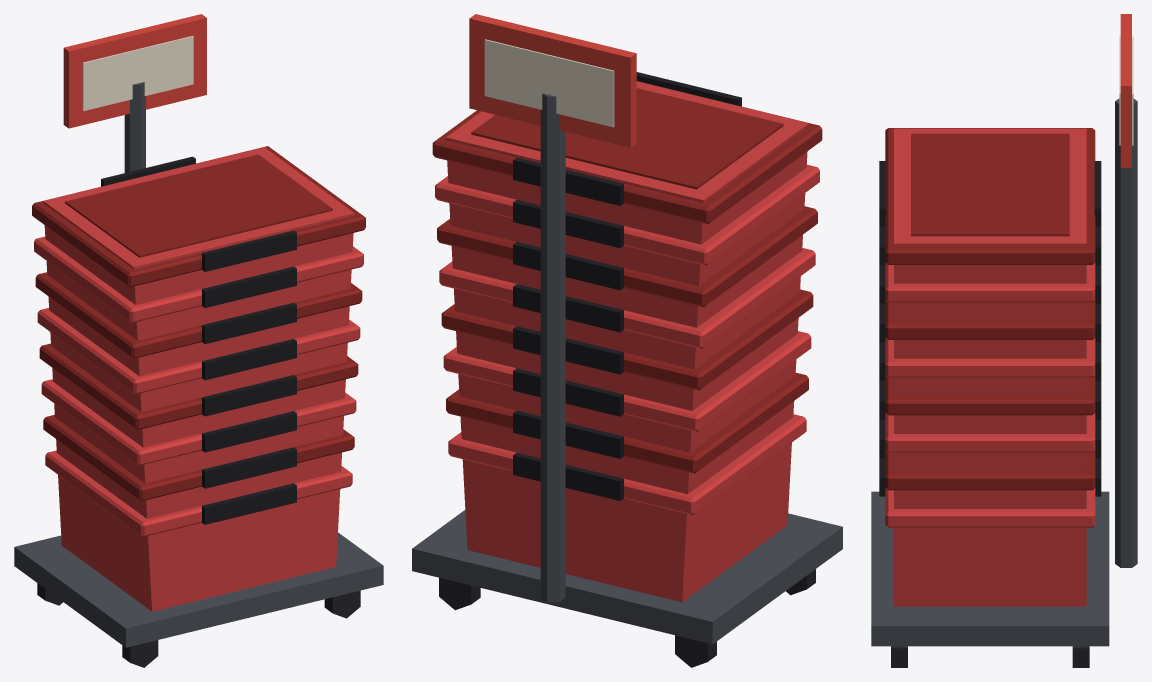
Rendered from Basket_Stack_Tower.glb.
The picture shows the model from 3 angles, left to right: view 1: azimuth 30°, elevation 25°; view 2: azimuth 150°, elevation 25°; view 3: azimuth 270°, elevation 25°; orthographic projection. The views are drawn at different scales.
Visible parts, largest first — view 1: Basket_Stack_Tower; view 2: Basket_Stack_Tower; view 3: Basket_Stack_Tower.
Part boxes in pixels (x1,y1,x2,y2): Basket_Stack_Tower: [14, 14, 383, 667]; Basket_Stack_Tower: [412, 14, 842, 667]; Basket_Stack_Tower: [871, 14, 1137, 667].
Bounding box in the file's own units: 0.56 × 1.1 × 0.47.
1 material, 1 textured.
